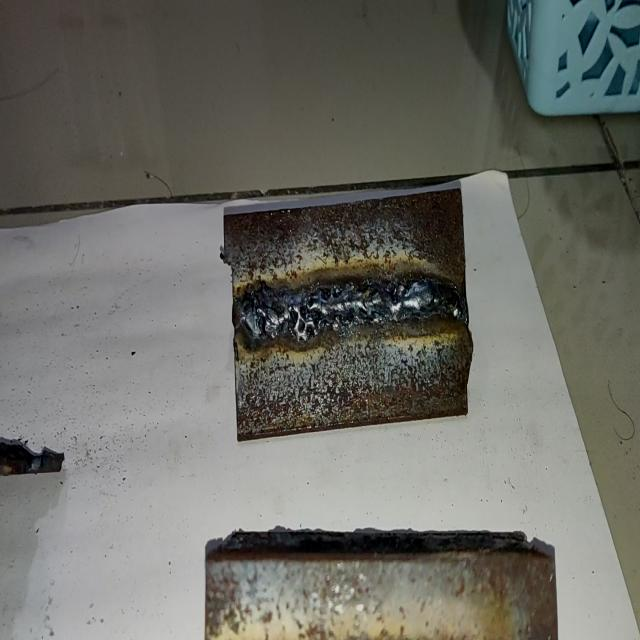Bad Weld: (237, 270, 463, 344)
Defect: (233, 270, 408, 352)
